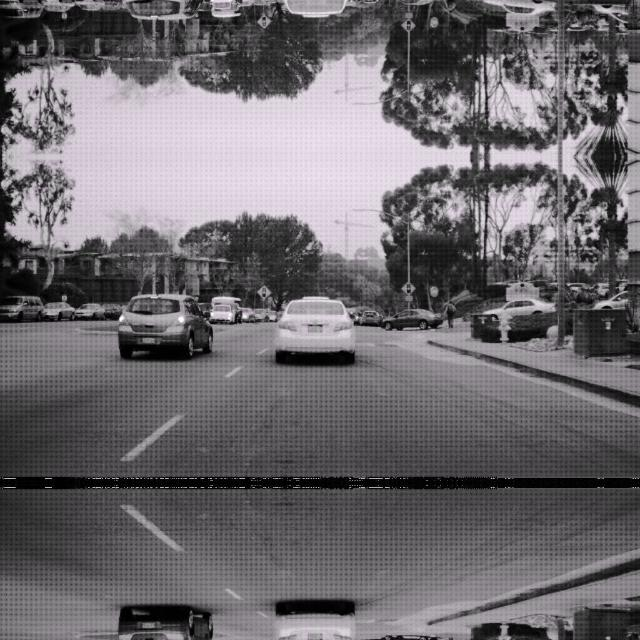signalAhead: (400, 278, 416, 294), (400, 18, 416, 34)
stop: (429, 285, 438, 297), (429, 15, 438, 27)
